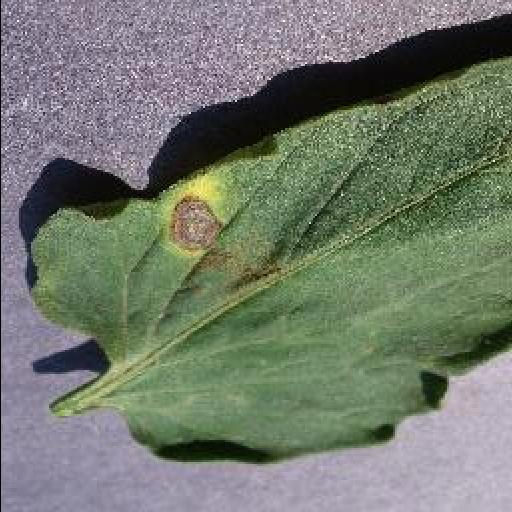Early Blight: (24, 55, 512, 463)
